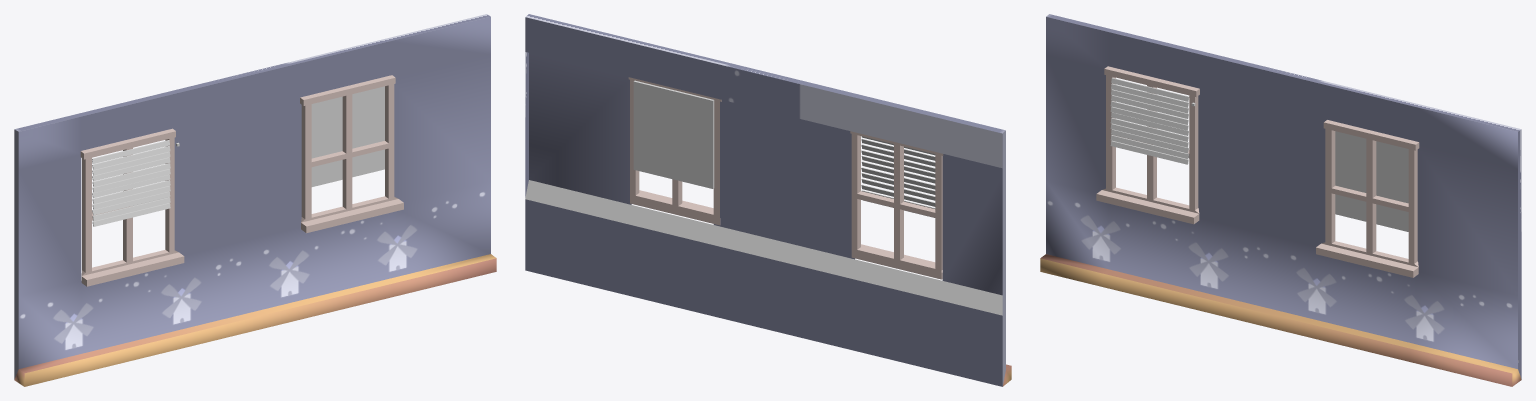
The model's file is Final mur.fbx.
3 views of the same model, side by side, from view 1: azimuth 30°, elevation 25°; view 2: azimuth 150°, elevation 25°; view 3: azimuth 330°, elevation 25° (orthographic).
Visible parts, largest first — view 1: Plane; view 2: Plane; view 3: Plane.
Boxes of the visible parts, x1,y1,x2,y2 form: Plane: [14, 14, 496, 386]; Plane: [525, 14, 1011, 386]; Plane: [1040, 14, 1521, 386].
Size of the model in its own units: 2533 by 1285 by 118.
